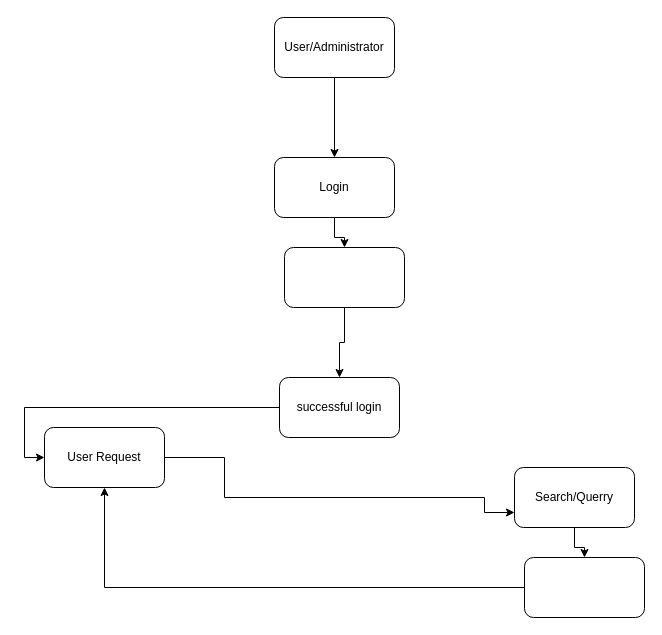
This 662x635 diagram has some shape labels left out. The centre of each missing label's shape, as x and y in pixels:
"Export the data to powerBi" belongs at [584,587].
"User authentication" belongs at [344,277].
